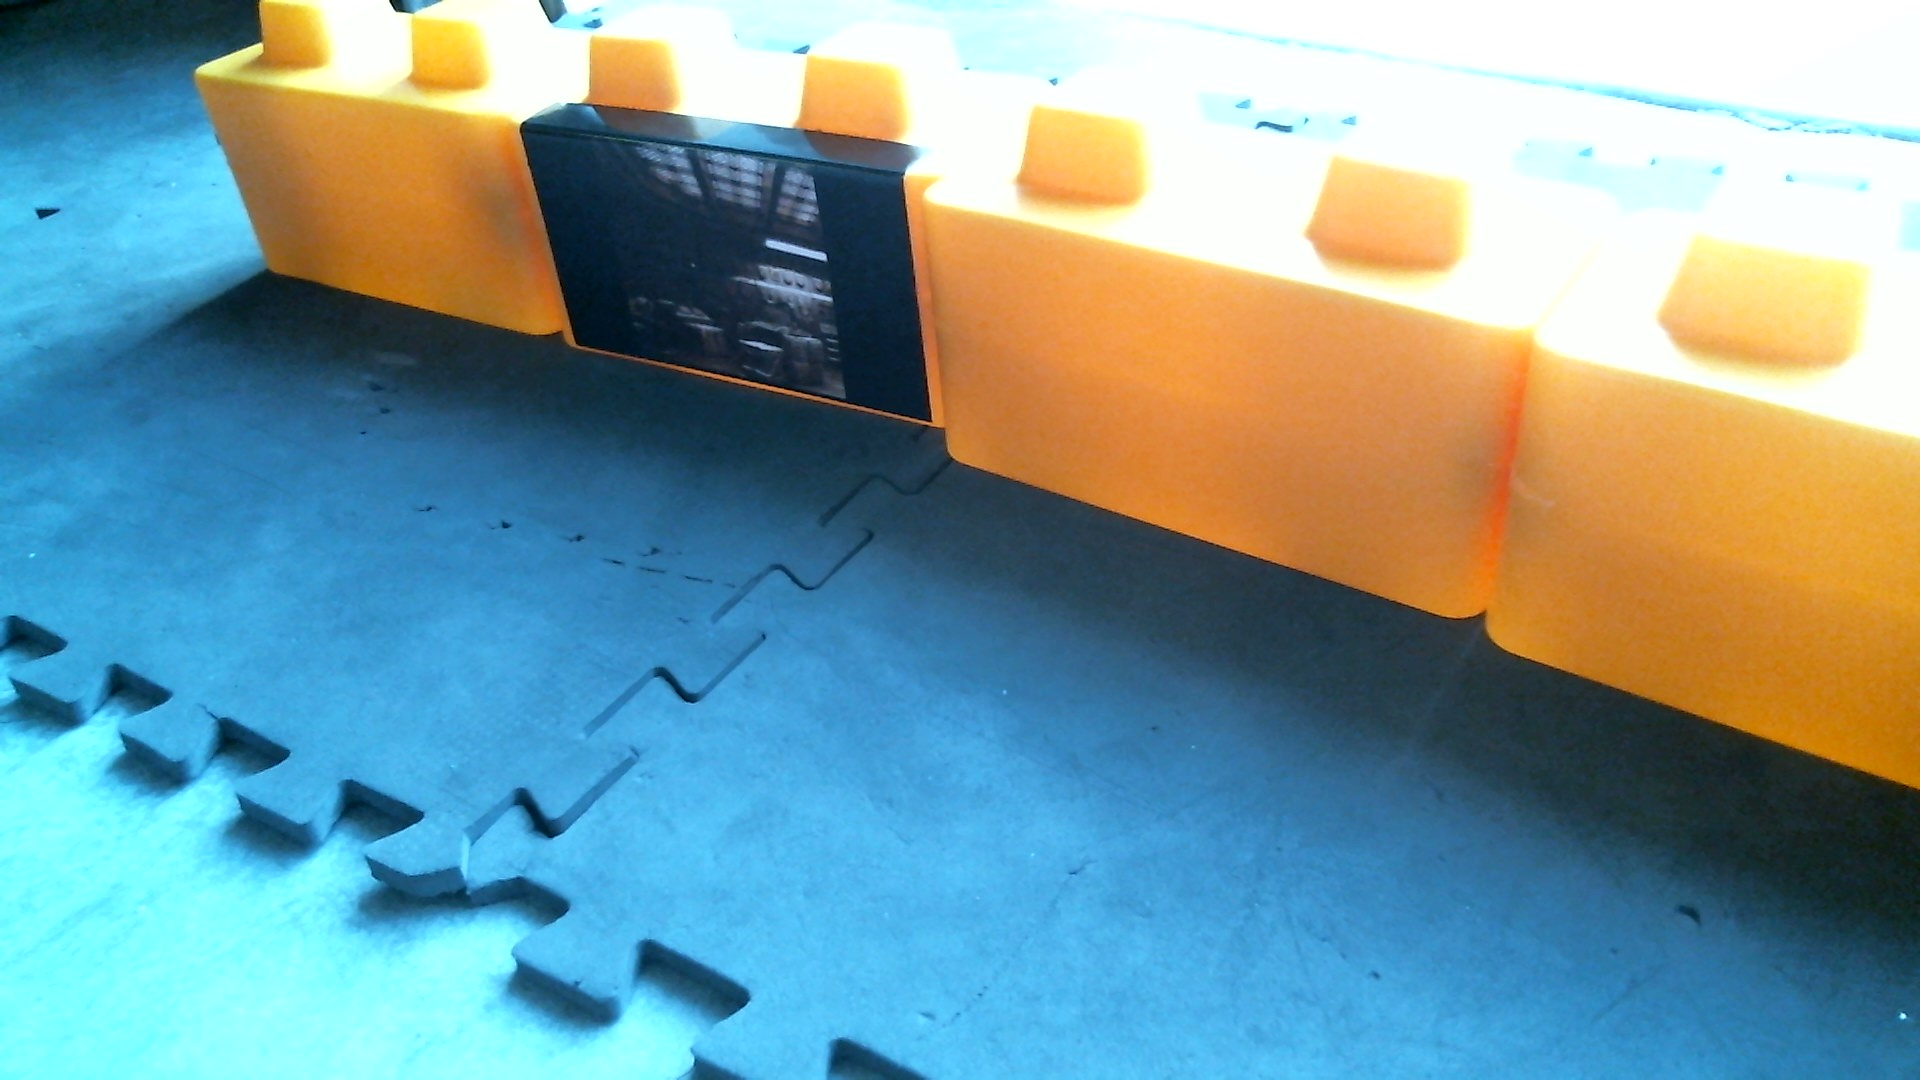center: (179, 8, 1614, 657)
